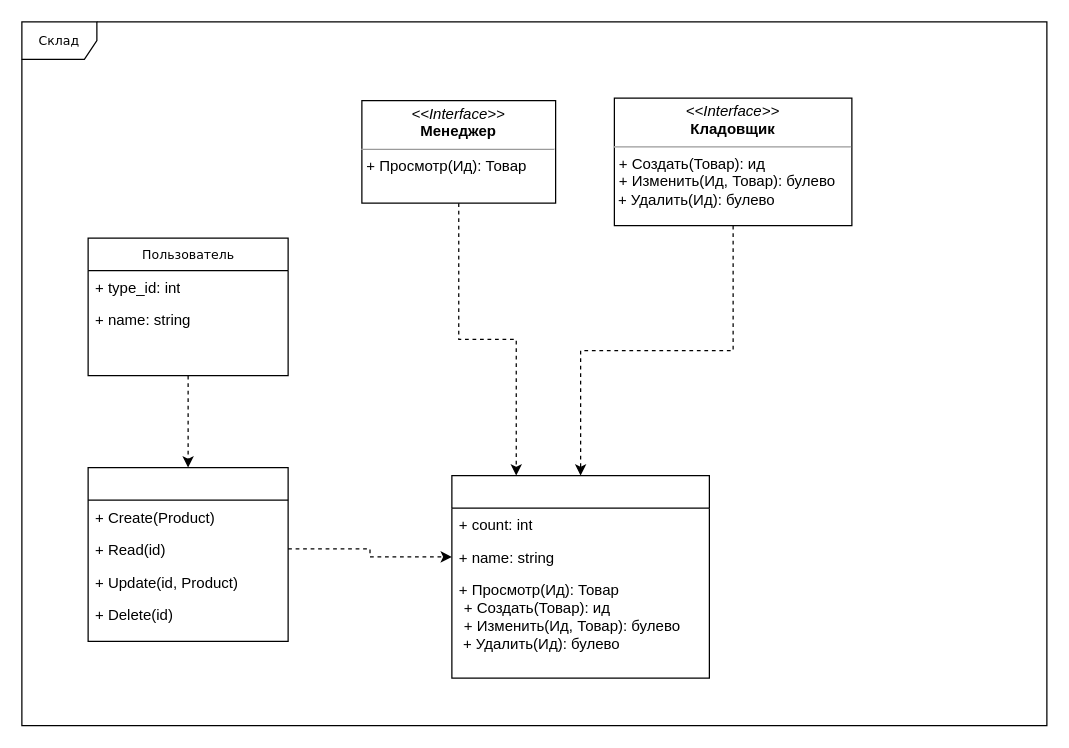
This 1069x748 diagram has some shape labels left out. The shapes that lost their labels are listed below. From the top down, each one's box as (x1, y1, x2, y2) in pixels, then its label:
(87, 466, 288, 641): ProductController
(451, 474, 709, 678): Product
